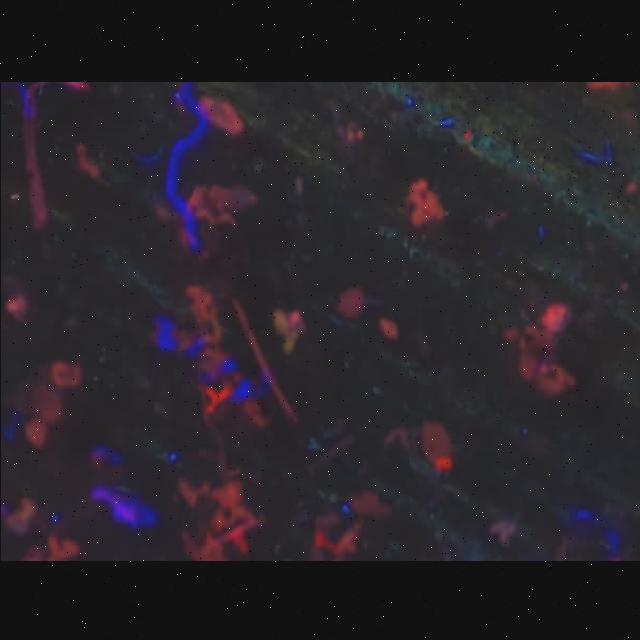Fragment: (402, 176, 446, 227)
